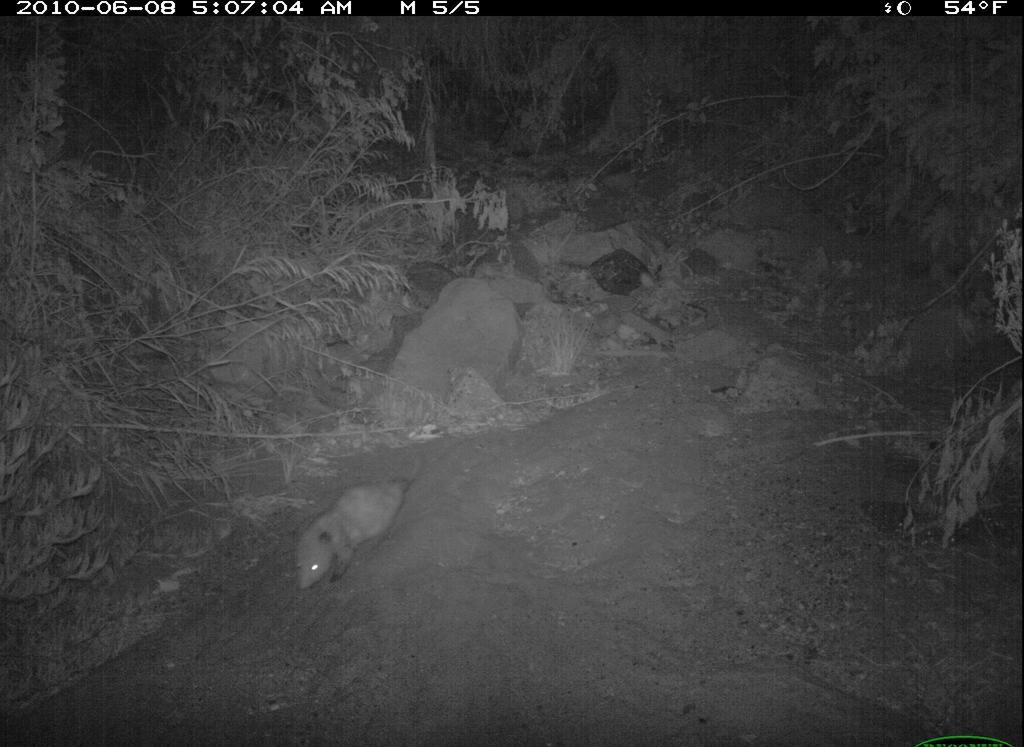opossum: (283, 456, 433, 598)
